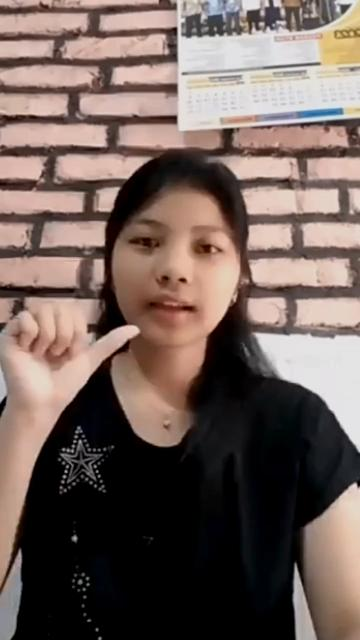A: (1, 304, 141, 422)
